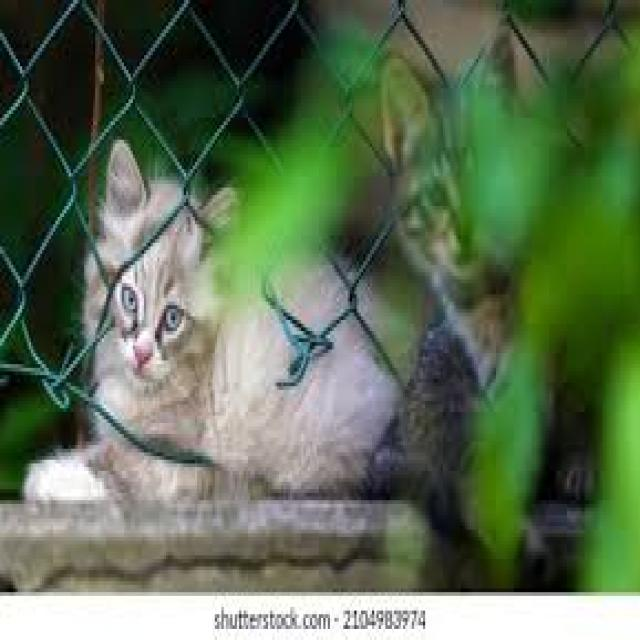Cat: (20, 133, 208, 504)
